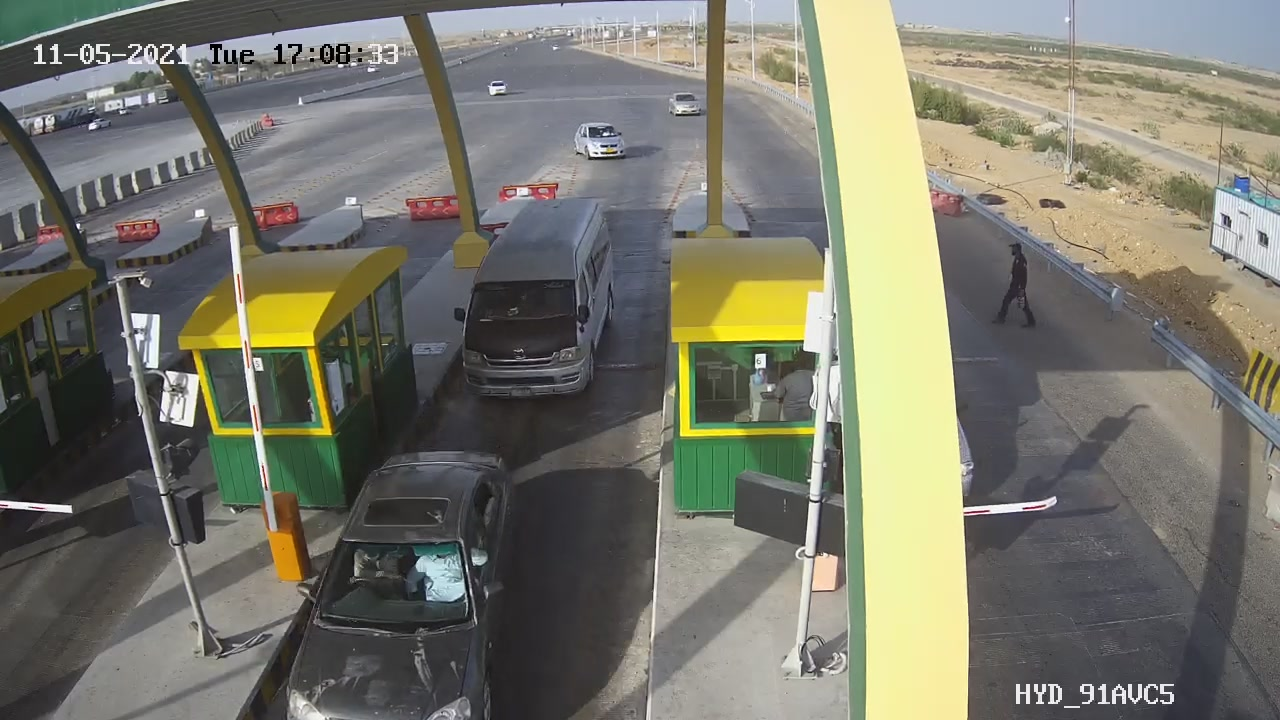F2: (434, 186, 639, 429)
